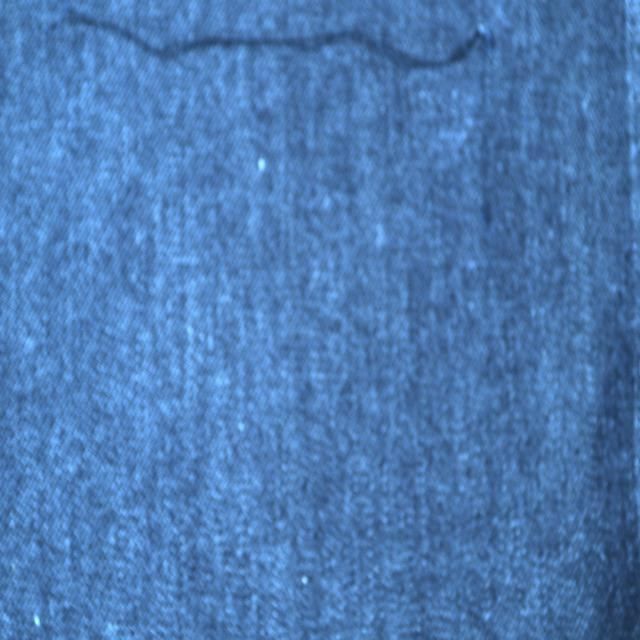defect: (66, 7, 502, 83)
